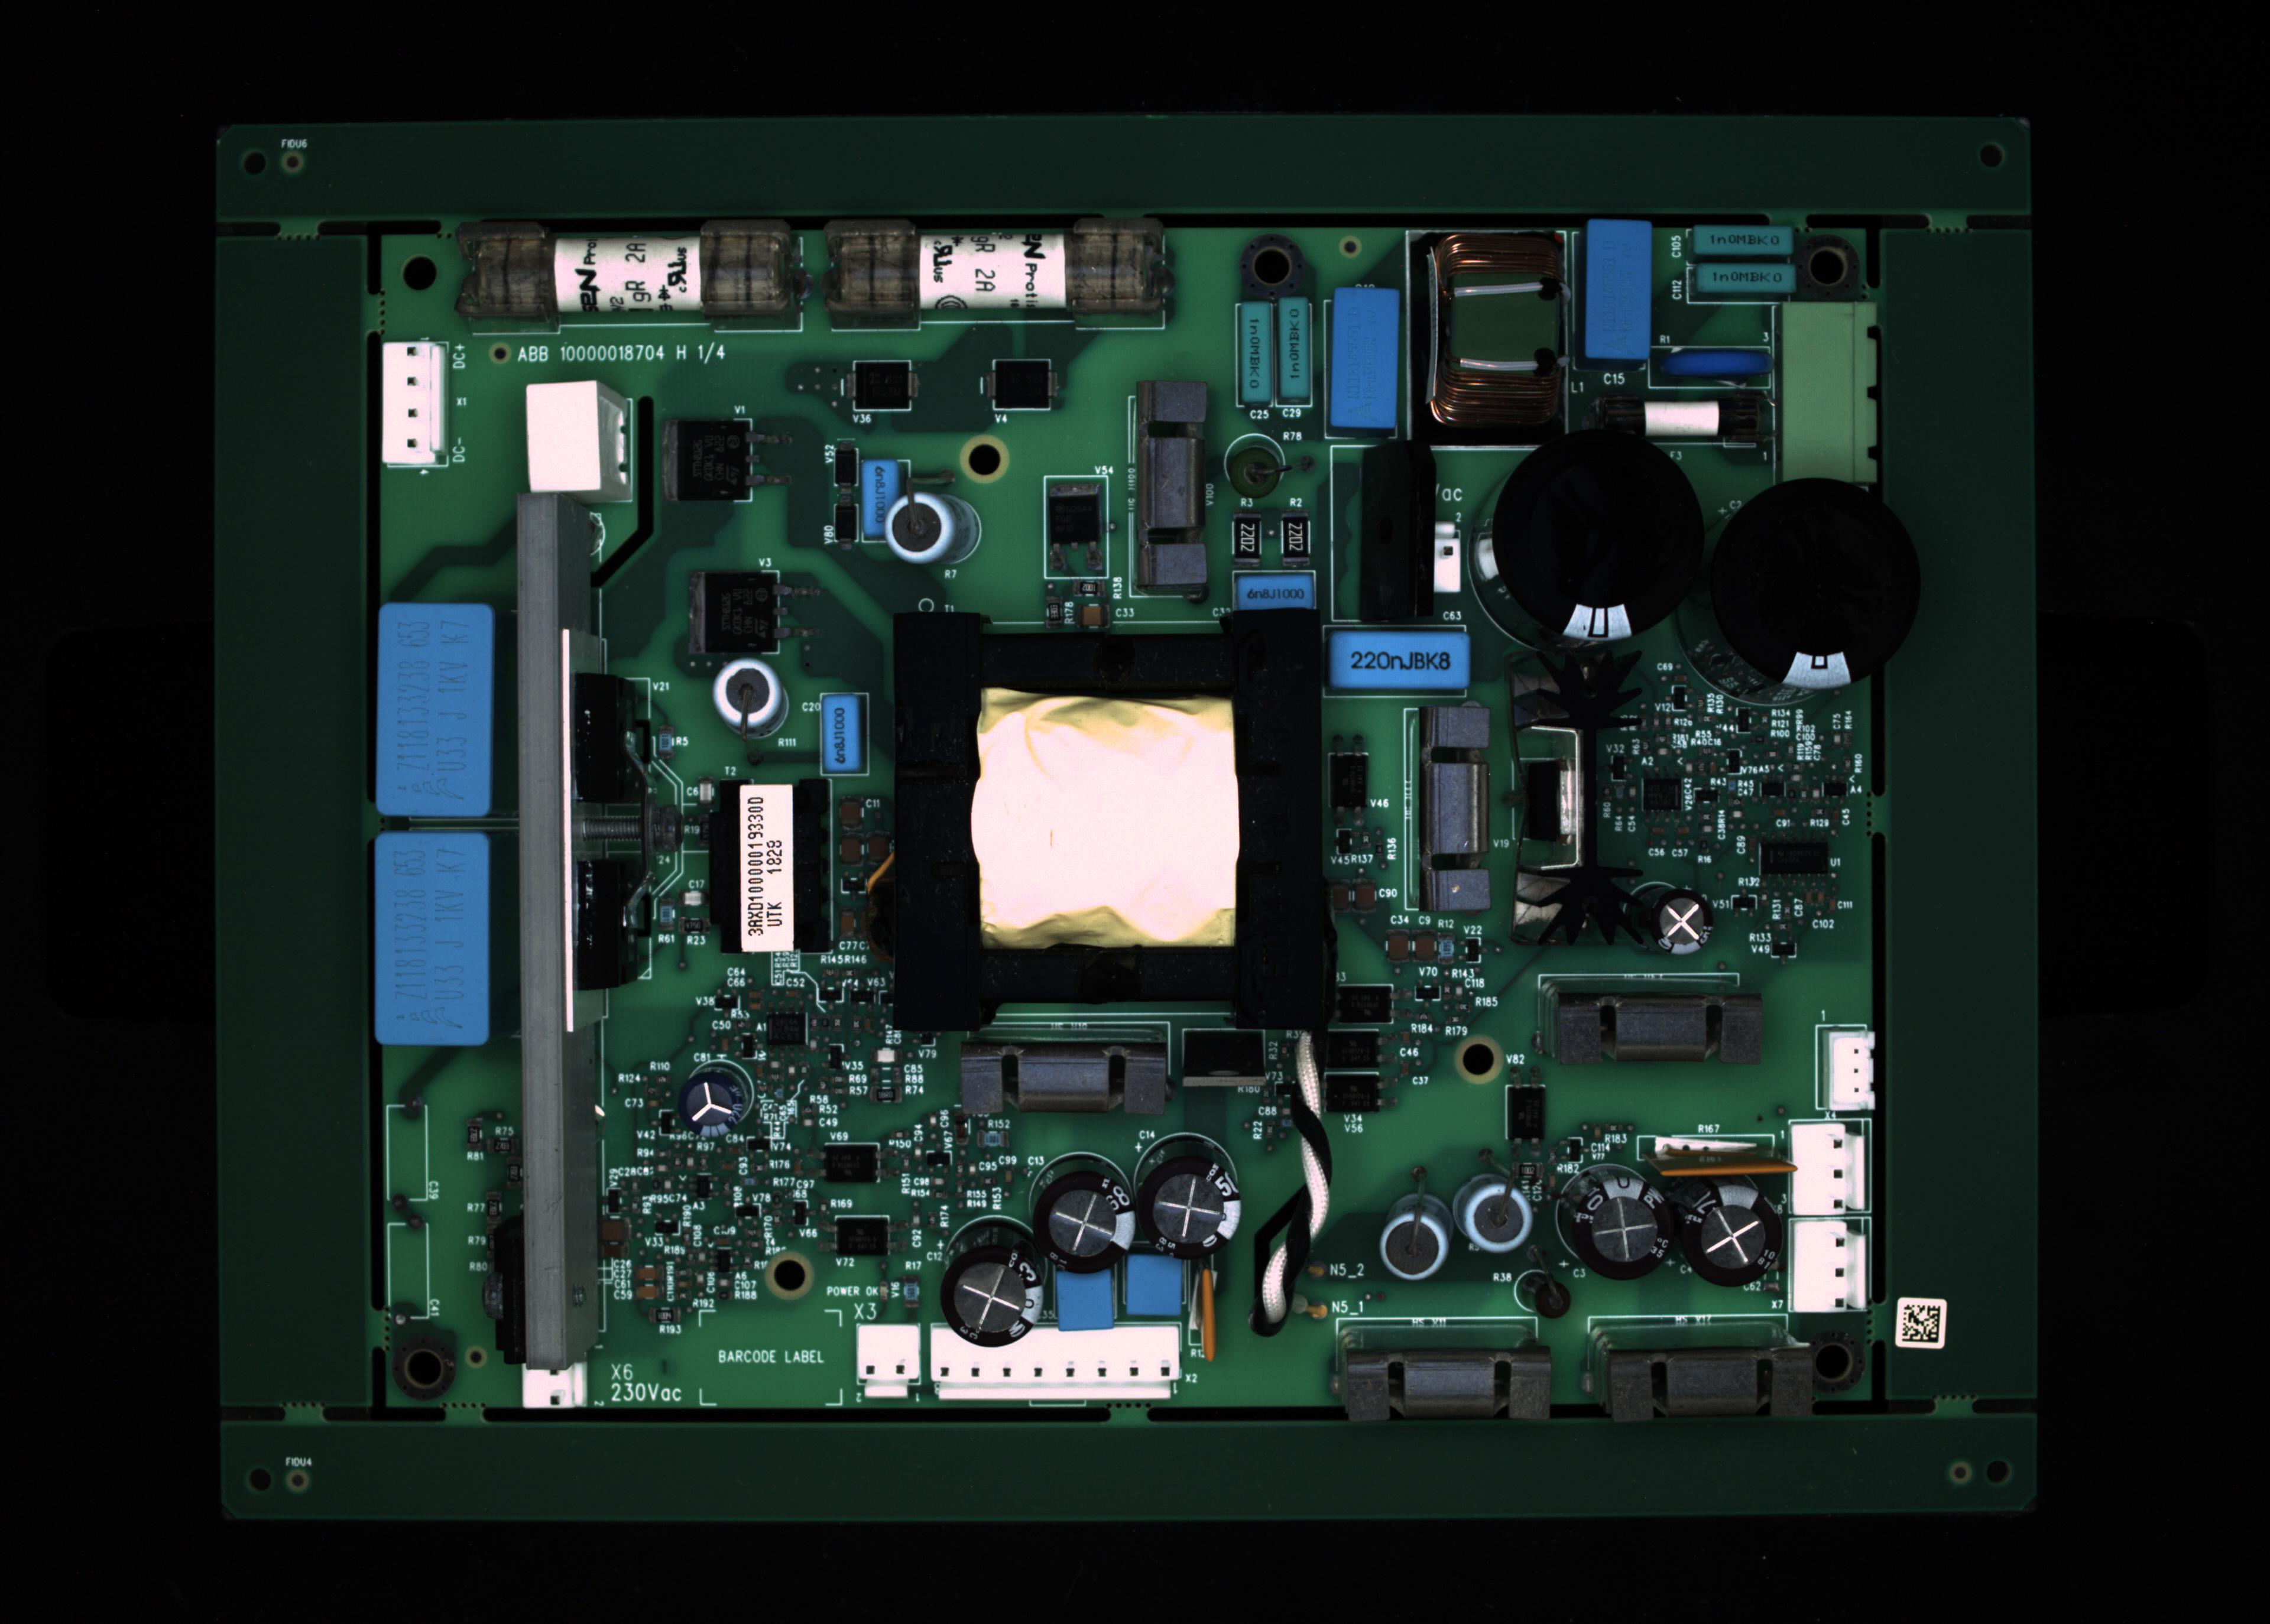10_p: (1648, 346, 1772, 394)
11_q: (1779, 301, 1880, 489)
12_r: (1591, 387, 1776, 455)
13_s: (380, 337, 447, 469)
14_t: (524, 380, 629, 490)
15_e: (860, 459, 895, 541)
16_k: (886, 490, 981, 568)
17_u: (1127, 385, 1206, 608)
18_v: (1234, 573, 1315, 610)
19_w: (1329, 629, 1475, 687)
1_a: (455, 220, 802, 329)
20_f: (1393, 517, 1470, 599)
21_g: (1489, 429, 1709, 642)
22_g: (1711, 476, 1918, 691)
23_h: (376, 601, 492, 816)
24_h: (376, 828, 487, 1048)
25_f: (520, 1366, 589, 1408)
26_f: (856, 1323, 923, 1397)
27_x: (930, 1323, 1180, 1408)
28_i: (1129, 1120, 1241, 1239)
29_i: (1027, 1153, 1134, 1274)
2_a: (819, 216, 1175, 325)
30_i: (941, 1216, 1055, 1339)
31_j: (1050, 1267, 1120, 1339)
32_j: (1115, 1237, 1197, 1329)
33_e: (814, 692, 869, 780)
34_k: (1373, 1195, 1465, 1281)
35_k: (1465, 1181, 1535, 1257)
36_i: (1575, 1176, 1672, 1280)
37_i: (1684, 1185, 1786, 1287)
38_l: (1343, 1339, 1549, 1422)
39_l: (1605, 1345, 1822, 1420)
3_b: (1240, 304, 1270, 401)
40_l: (1539, 977, 1771, 1069)
41_y: (1407, 678, 1505, 919)
42_z: (1818, 1028, 1874, 1118)
43_m: (1792, 1121, 1873, 1216)
44_m: (1788, 1216, 1871, 1311)
45_i: (679, 1065, 756, 1142)
46_n: (1338, 982, 1412, 1028)
47_n: (811, 1142, 899, 1192)
48_n: (818, 1214, 911, 1265)
49_aa: (761, 1011, 814, 1056)
4_b: (1278, 299, 1310, 397)
50_n: (1321, 1030, 1391, 1070)
51_n: (1308, 1070, 1396, 1120)
52_ab: (1329, 740, 1377, 831)
53_ac: (1656, 1130, 1790, 1165)
54_ad: (1194, 1253, 1222, 1364)
55_l: (957, 1021, 1175, 1118)
56_ae: (1176, 1025, 1282, 1132)
57_af: (1509, 647, 1635, 951)
58_i: (1646, 889, 1716, 956)
59_o: (981, 359, 1067, 417)
5_c: (1329, 286, 1400, 427)
60_o: (840, 357, 920, 420)
6_6: (1405, 232, 1572, 452)
7_c: (1584, 218, 1649, 359)
8_d: (1693, 227, 1792, 257)
9_d: (1697, 262, 1793, 294)
